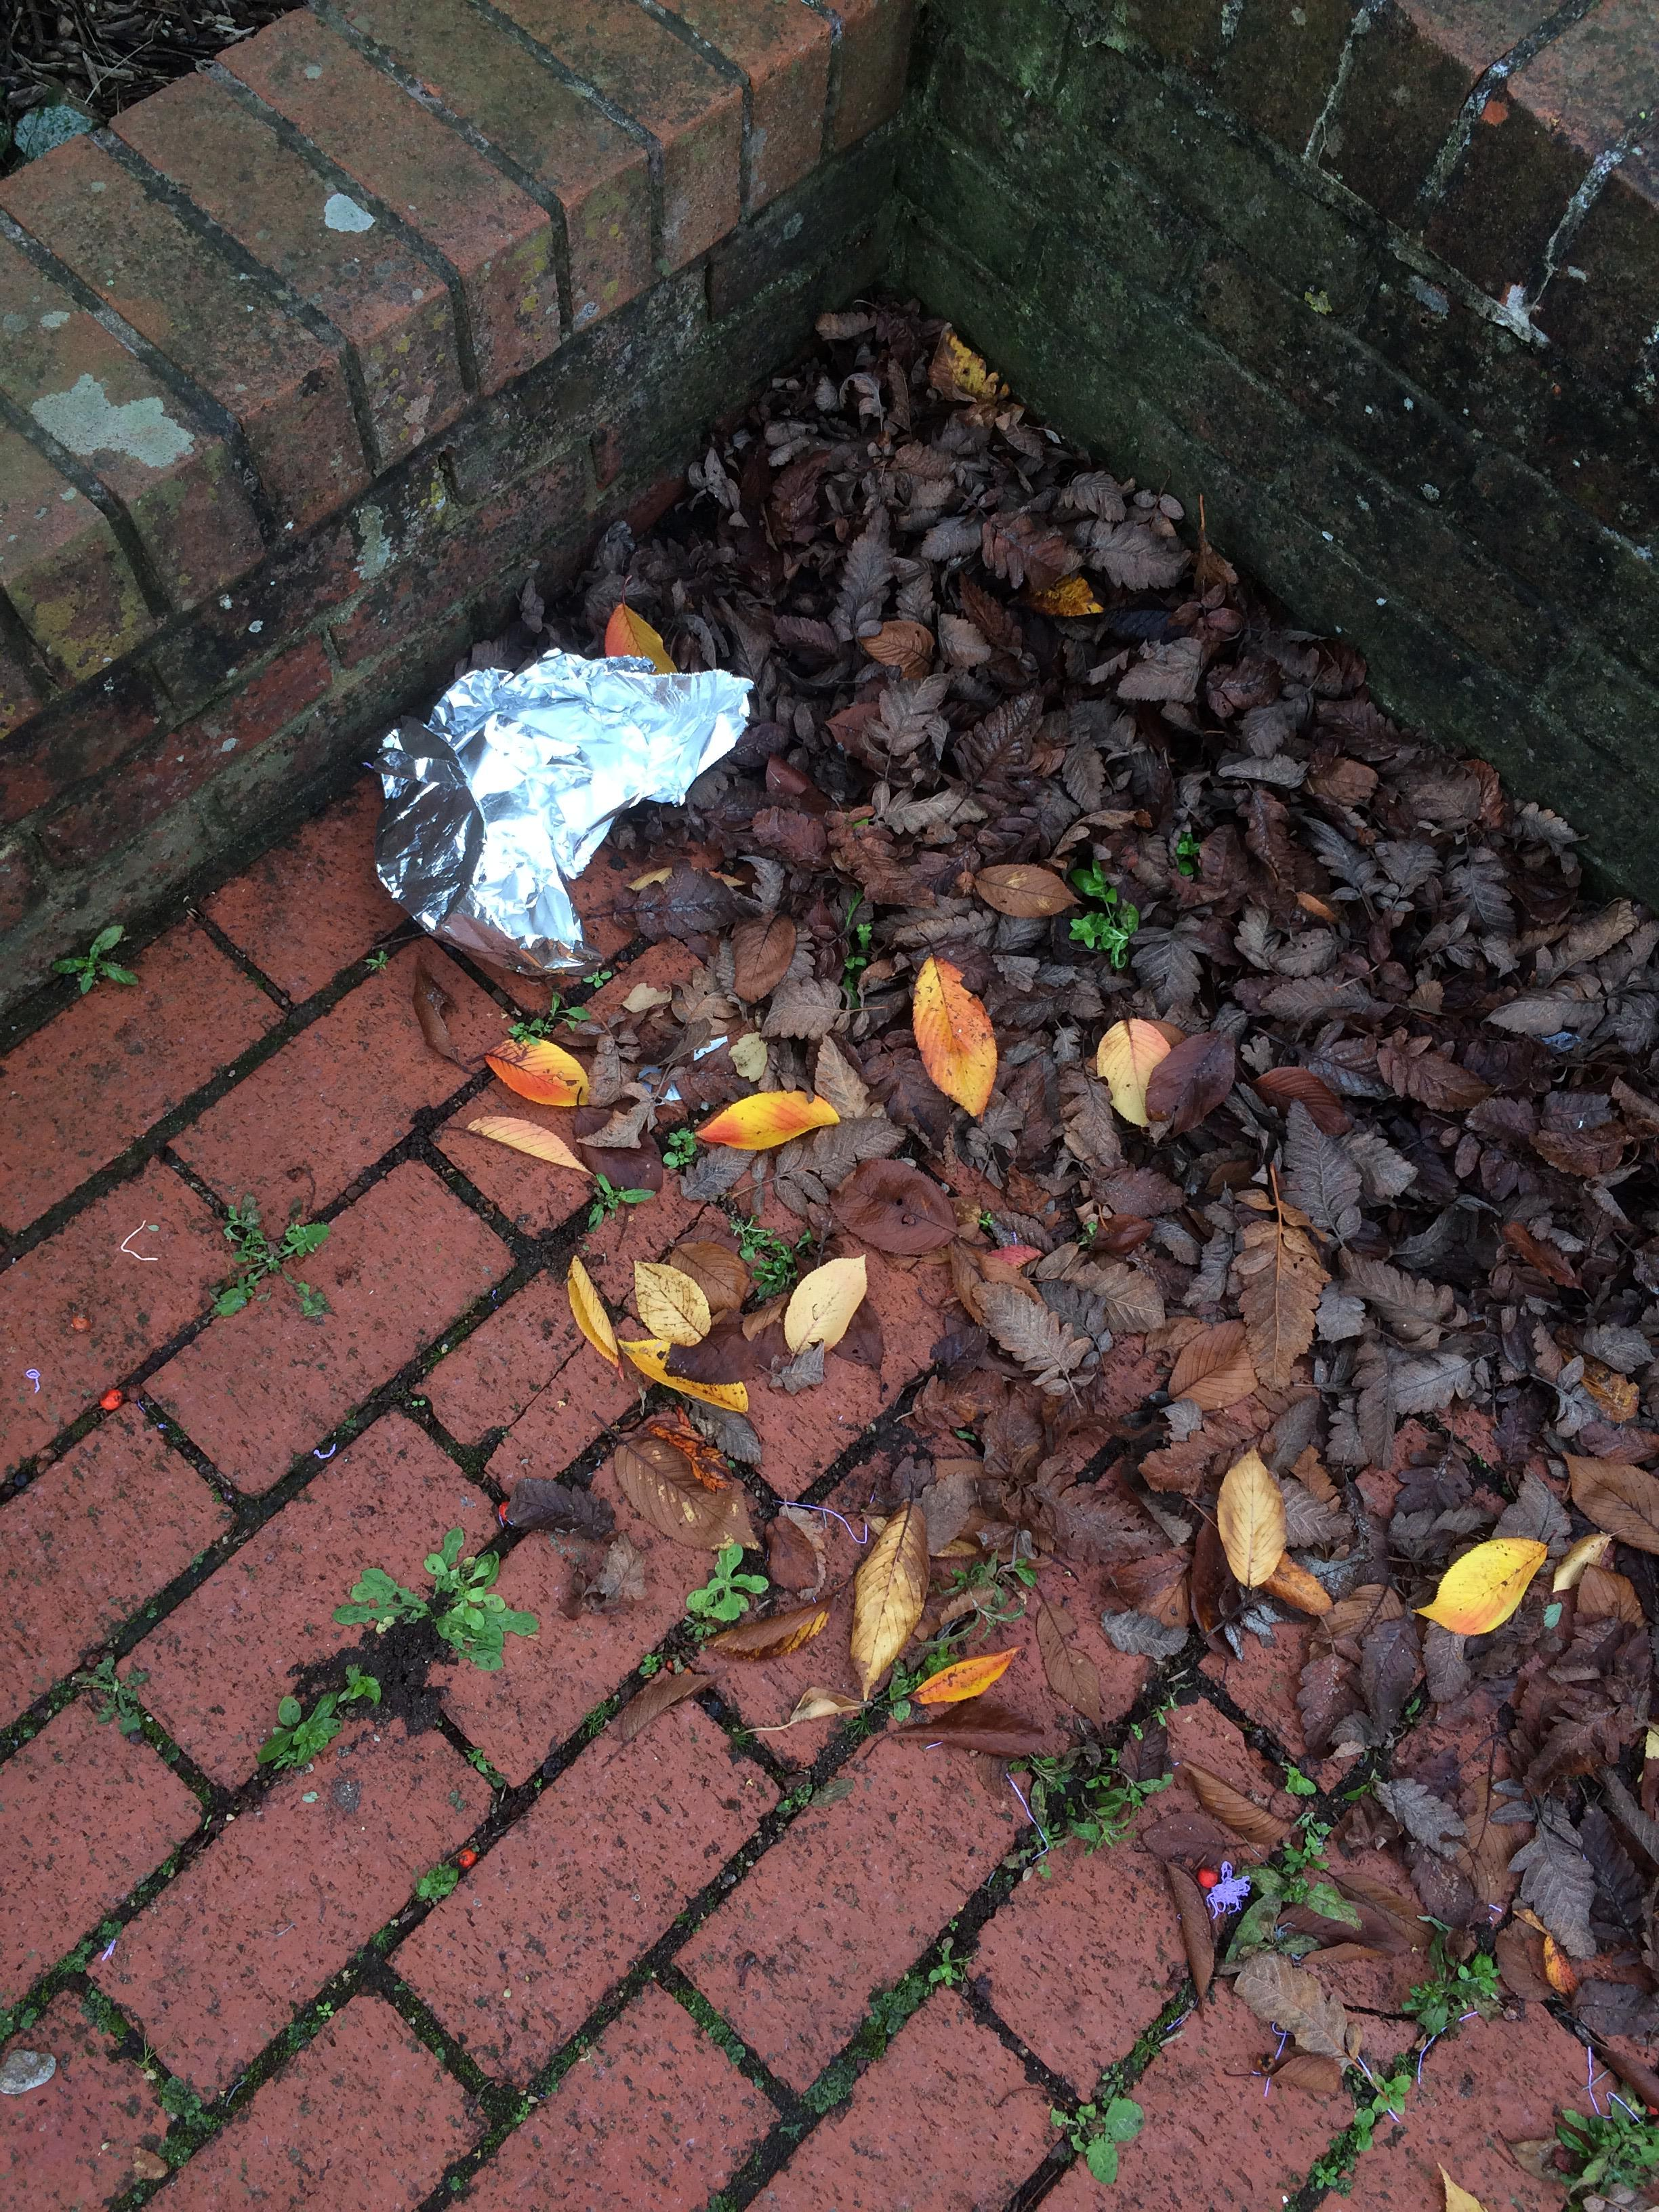Trash: (389, 665, 753, 961)
